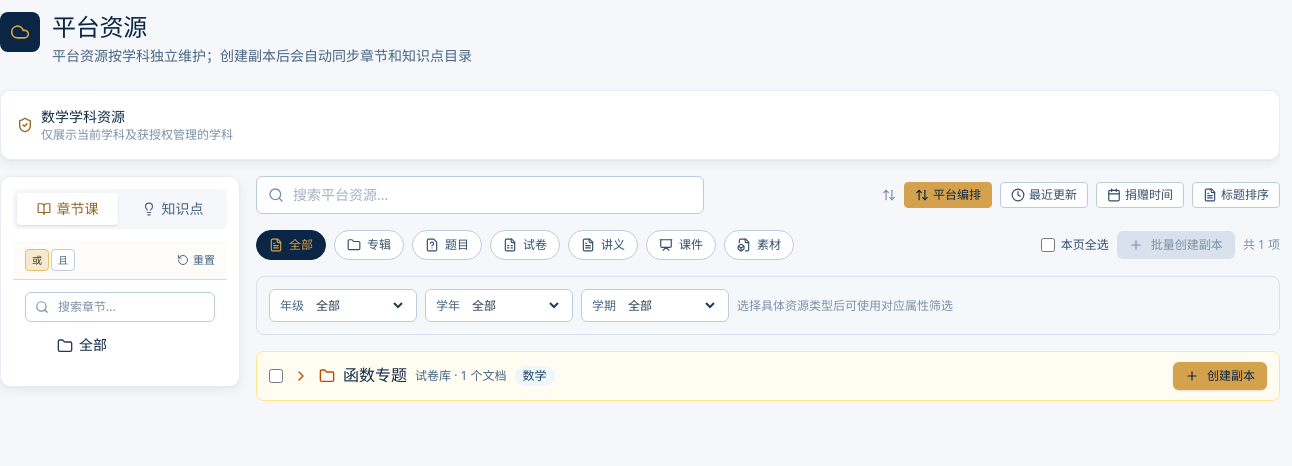
Scenario: PlatformResourcesPage layout and filters › groups donated album documents in the regular list with their source library
Expected: the element named "平台专辑：函数专题" is shown, [256,351,1280,401]
Expected: the text "试卷库 · 1 个文档" is shown, [415,368,506,384]
Click the button named "展开专辑：函数专题": [301, 376] box [291,366,311,386]
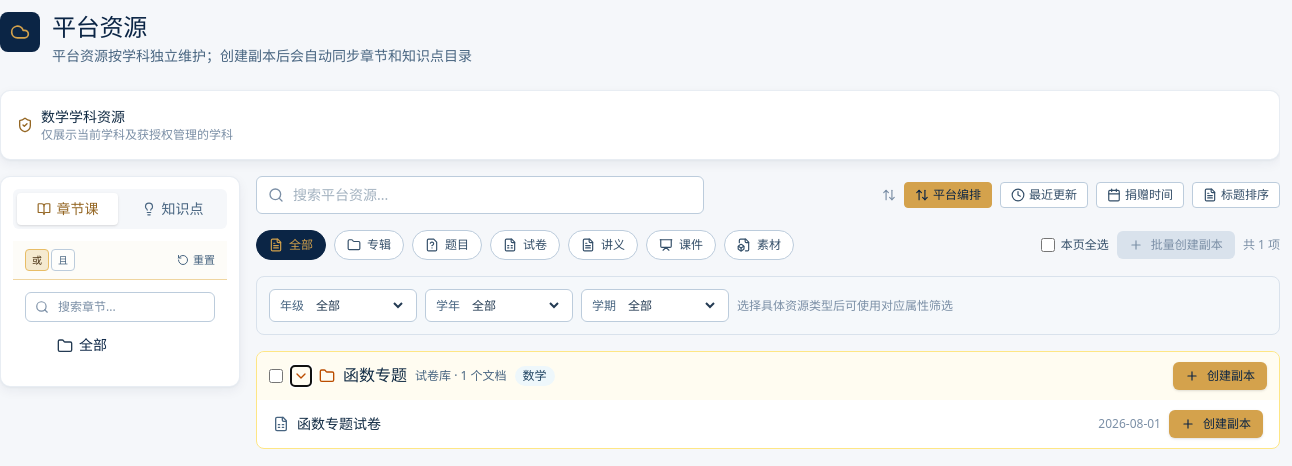
Expected: the button "函数专题试卷" is shown, [297,414,1090,434]
Expected: the icon named "试卷标识" is shown, [273,416,289,432]
